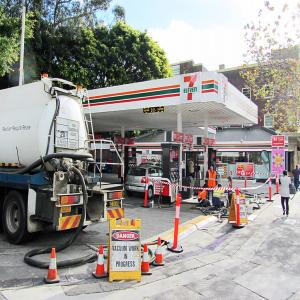Vehicle-registration-plate: (110, 202, 119, 210)
